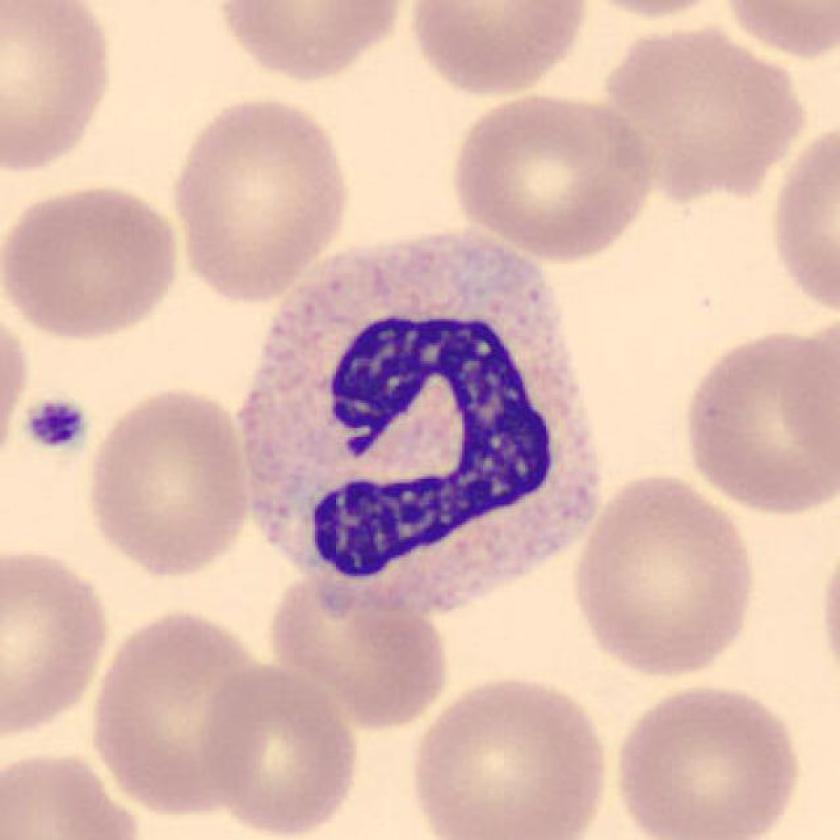neutrophil: (241, 236, 600, 609)
